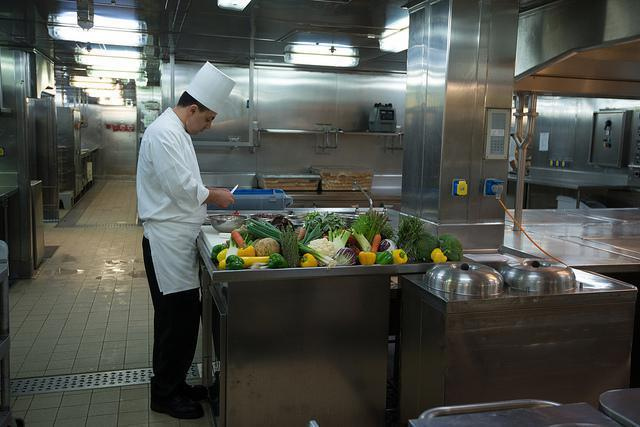Lavaplatos: (318, 179, 398, 217)
